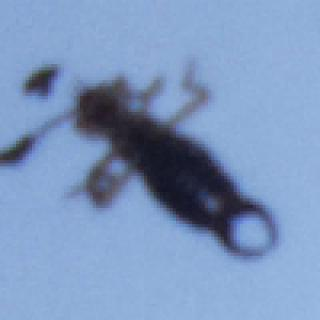earwig: (16, 58, 284, 262)
